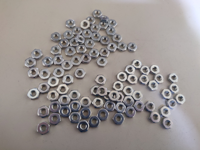nut: (37, 122, 51, 135), (49, 114, 62, 127), (49, 102, 62, 115), (149, 112, 162, 125), (38, 106, 50, 119), (28, 88, 40, 101), (47, 90, 60, 102), (69, 100, 82, 112), (78, 120, 90, 133), (60, 106, 72, 118), (162, 118, 174, 130), (57, 84, 69, 95), (74, 68, 86, 79), (69, 113, 80, 125), (89, 116, 100, 128), (113, 114, 125, 125), (96, 86, 108, 97), (135, 101, 146, 113), (161, 89, 173, 100), (168, 73, 180, 84), (38, 83, 51, 93), (69, 90, 82, 100), (96, 75, 107, 86), (28, 68, 39, 79), (109, 91, 120, 102), (54, 67, 65, 78), (160, 106, 171, 117), (145, 101, 156, 112), (132, 59, 143, 70), (65, 47, 76, 58), (80, 19, 91, 30), (48, 77, 60, 87), (59, 95, 71, 105), (80, 109, 92, 119), (25, 58, 37, 68), (115, 103, 127, 113), (113, 82, 125, 92), (116, 72, 128, 82), (126, 106, 136, 118), (167, 99, 179, 109), (175, 94, 187, 104), (169, 84, 181, 94), (96, 57, 108, 67), (63, 74, 74, 84), (93, 99, 104, 109), (98, 111, 109, 121), (40, 69, 51, 79), (149, 81, 159, 92), (125, 65, 136, 75), (32, 49, 43, 59), (51, 32, 61, 43), (62, 61, 73, 71), (81, 54, 92, 64), (99, 48, 110, 58), (100, 36, 111, 46), (85, 39, 96, 49), (64, 30, 75, 40), (127, 75, 139, 84), (53, 56, 65, 65), (71, 57, 83, 66), (81, 97, 91, 107), (133, 91, 143, 101), (140, 75, 150, 85), (124, 86, 134, 96), (42, 57, 52, 67), (59, 39, 69, 49), (128, 43, 138, 53), (118, 43, 128, 53), (104, 102, 115, 111), (154, 75, 165, 84), (51, 46, 62, 55), (93, 9, 104, 18), (70, 38, 81, 47), (92, 87, 102, 96), (103, 92, 113, 101), (115, 93, 125, 102), (112, 34, 122, 43), (91, 32, 101, 41), (83, 29, 93, 38), (90, 49, 100, 58), (86, 15, 95, 25), (106, 27, 117, 35), (65, 20, 76, 28), (152, 65, 161, 74), (100, 21, 109, 30), (78, 45, 87, 54), (108, 43, 118, 51), (109, 19, 118, 27), (91, 24, 99, 32), (142, 66, 151, 73), (126, 97, 133, 106), (75, 27, 82, 36), (78, 36, 85, 44)
